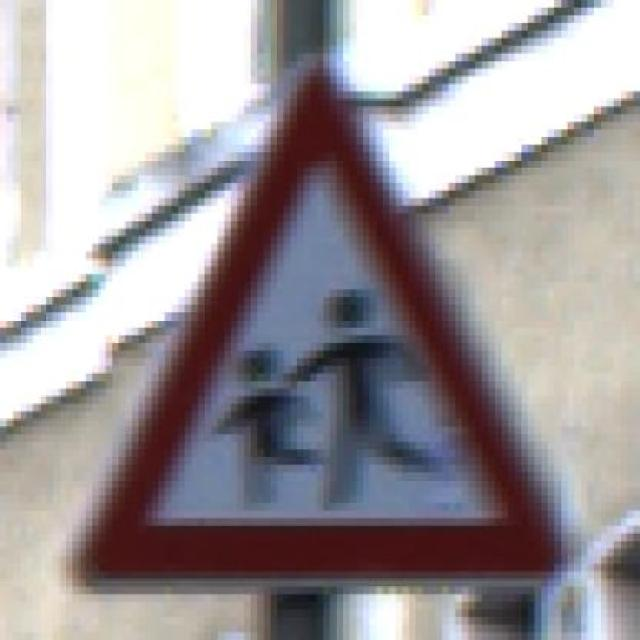Beware of children: (52, 45, 594, 587)
